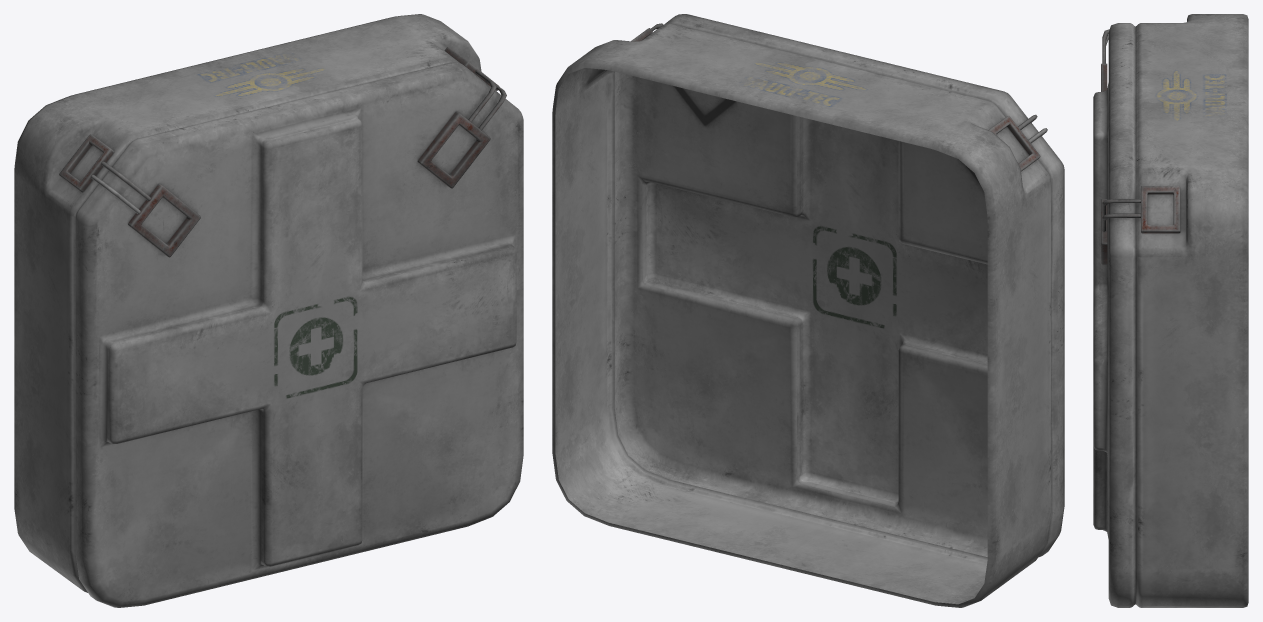
The model's file is Fallout_First_Aid_Mesh.fbx.
3 renders of one model, left to right at view 1: azimuth 30°, elevation 25°; view 2: azimuth 150°, elevation 25°; view 3: azimuth 270°, elevation 25°, orthographic. The views are drawn at different scales.
Parts seen in each view (by area): view 1: Box147; view 2: Box147; view 3: Box147.
Boxes of the visible parts, x1,y1,x2,y2 form: Box147: (14,14,523,607); Box147: (552,14,1064,607); Box147: (1093,14,1248,607).
Size of the model in its own units: 50 by 50 by 16.37.
